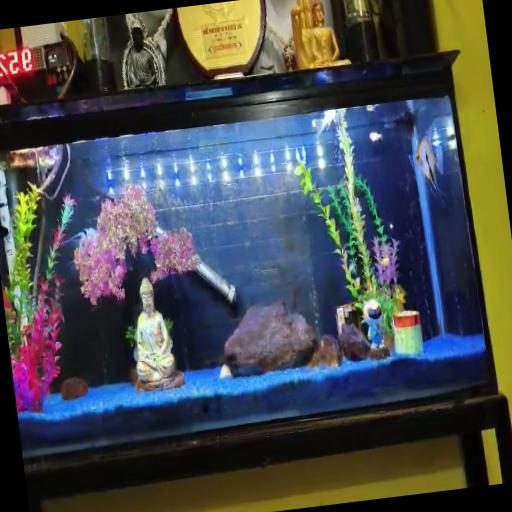Fish: (415, 135, 445, 201), (311, 110, 335, 140), (65, 228, 97, 250), (66, 228, 97, 248), (368, 132, 382, 142), (0, 225, 8, 238), (366, 104, 377, 112), (381, 258, 389, 267)
